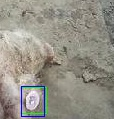text: (21, 87, 46, 113)
